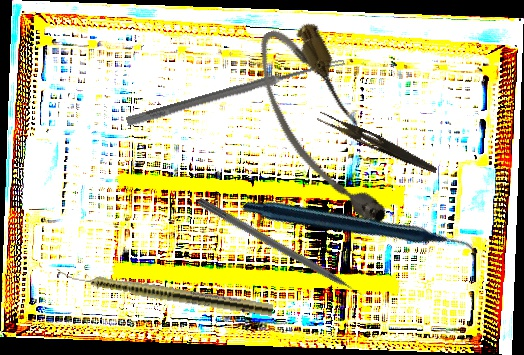Cannula: (242, 13, 402, 245)
Dressing Forceps: (314, 110, 441, 176)
Handpiece: (240, 110, 479, 350), (54, 266, 274, 318)
Pusher: (195, 196, 375, 307)
Surgical Spoon: (125, 55, 346, 128)
